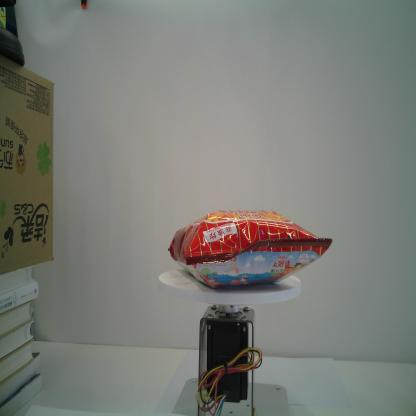Puffed Food: (168, 210, 332, 289)
